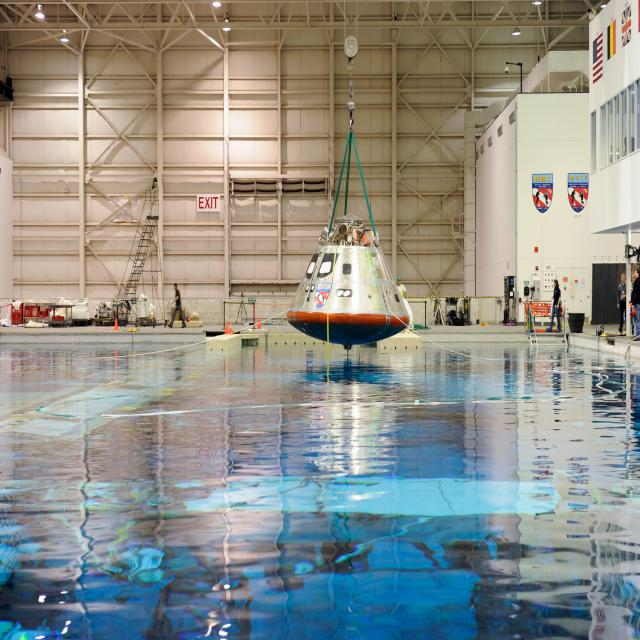Orion_capsule_mockup_ WEST _located_on_far_end_of_pool: (286, 213, 409, 350)
